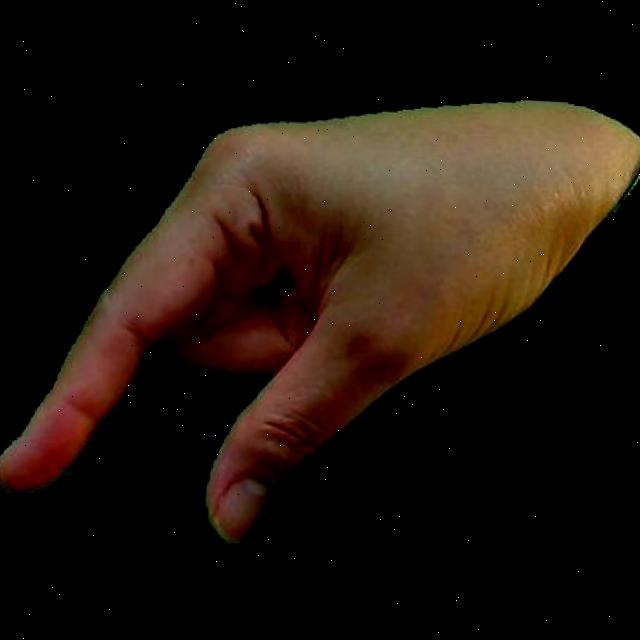q: (0, 57, 640, 578)
